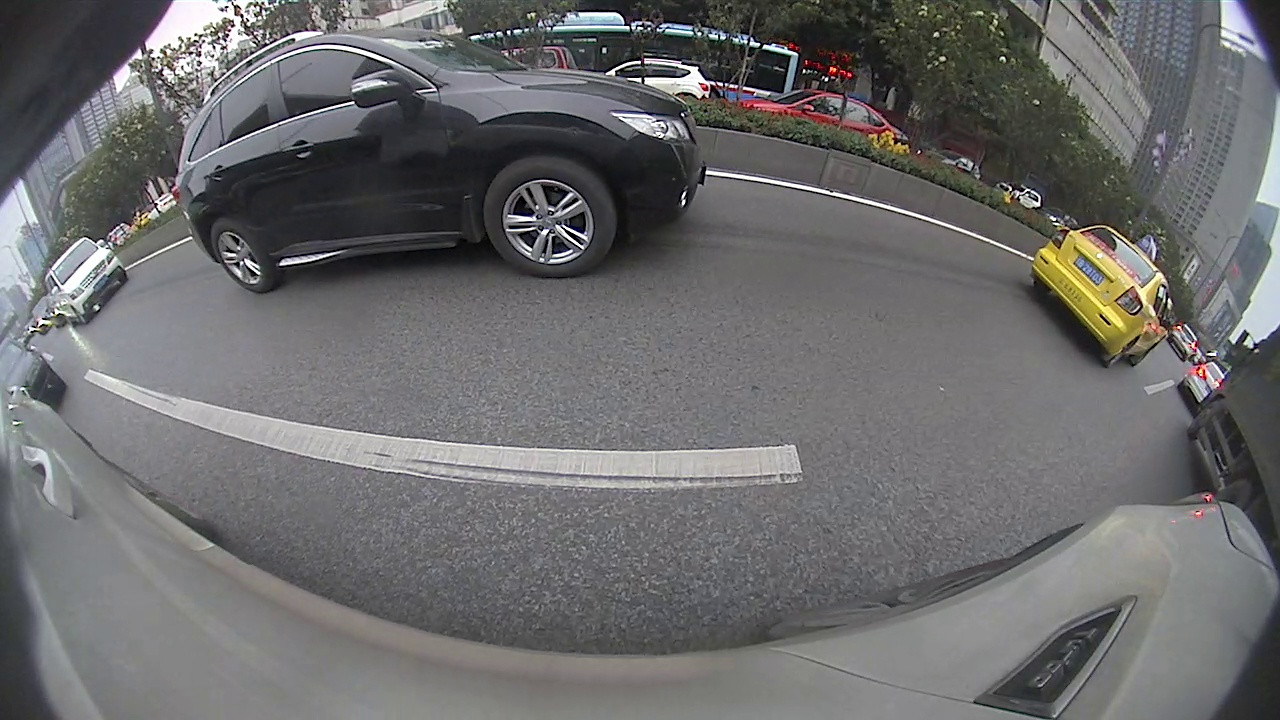car: (175, 25, 706, 294), (1029, 221, 1168, 370), (35, 239, 126, 326), (1175, 358, 1223, 411), (1171, 317, 1196, 361)
front: (484, 162, 616, 277)
rear: (210, 220, 270, 293), (1102, 337, 1137, 370)
